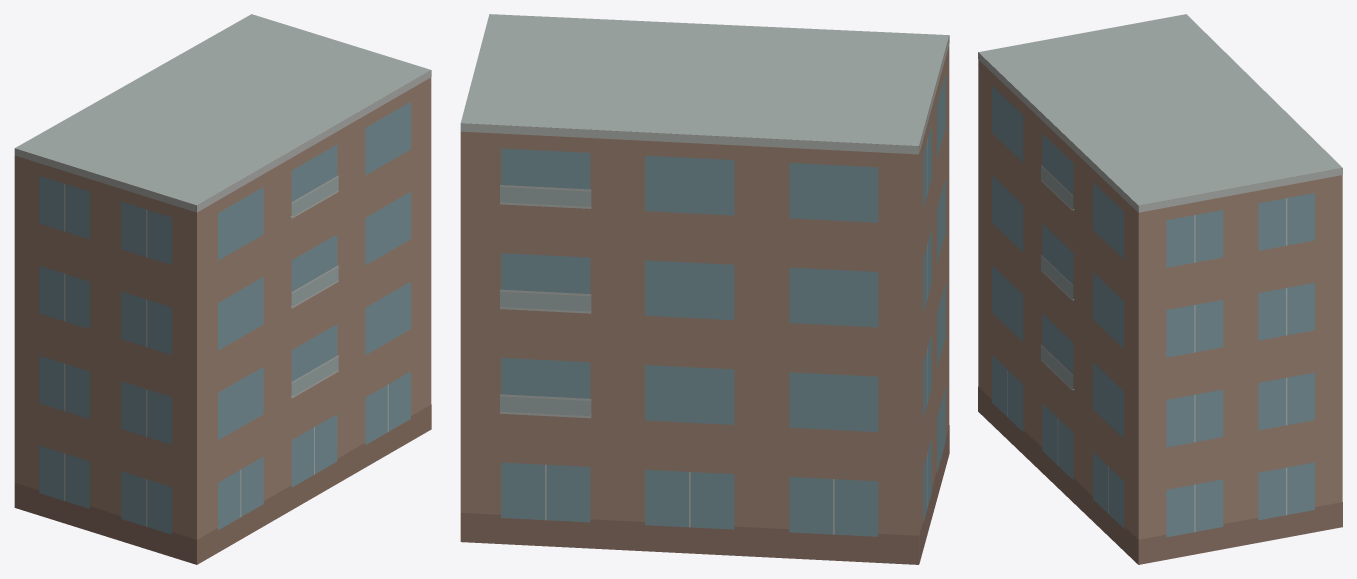
The model's file is survey-upis-32589961.glb.
3 views of the same model, side by side, from view 1: azimuth 30°, elevation 25°; view 2: azimuth 150°, elevation 25°; view 3: azimuth 270°, elevation 25° (orthographic). The views are drawn at different scales.
Visible parts, largest first — view 1: survey-upis-32589961.tmp; view 2: survey-upis-32589961.tmp; view 3: survey-upis-32589961.tmp.
Part boxes in pixels (x1,y1,x2,y2): survey-upis-32589961.tmp: (14, 14, 431, 564); survey-upis-32589961.tmp: (460, 14, 949, 564); survey-upis-32589961.tmp: (978, 14, 1342, 564).
Bounding box in the file's own units: 13.96 × 12.2 × 11.23.
